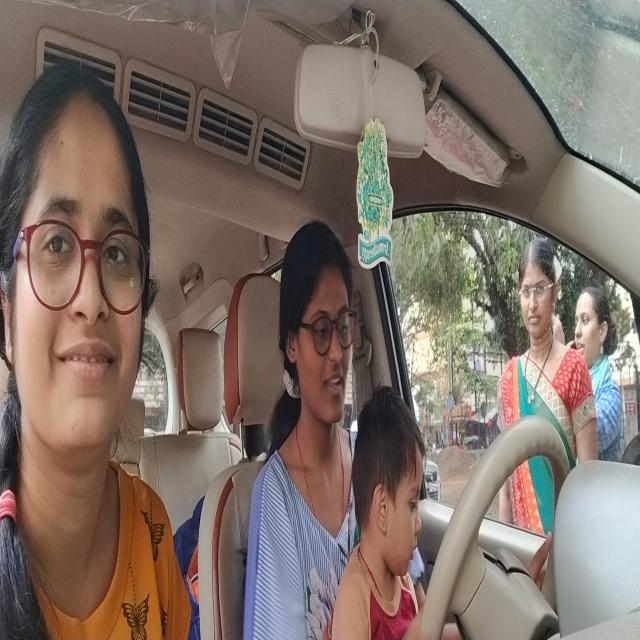child: (368, 388, 424, 560)
person: (4, 82, 144, 446), (278, 243, 352, 431)
